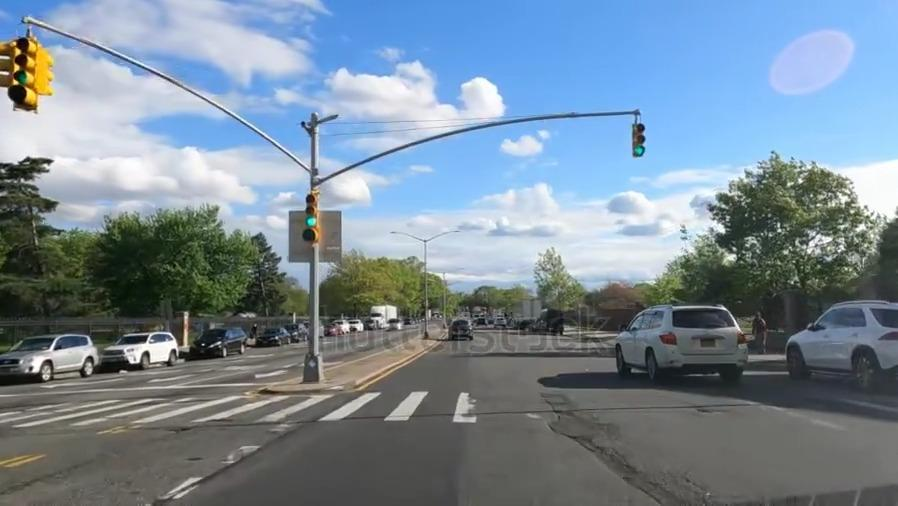car: (609, 300, 748, 383), (775, 295, 898, 385), (2, 332, 102, 381), (103, 331, 179, 367), (190, 328, 239, 355), (448, 317, 474, 342), (261, 328, 286, 344), (287, 324, 305, 341)
pedestrian: (0, 385, 897, 431)
person: (749, 310, 774, 352), (250, 321, 260, 334)
pothole: (694, 403, 724, 419)
road damage: (574, 441, 646, 486), (540, 396, 597, 440), (638, 467, 698, 506)
traffic light: (0, 32, 82, 114), (291, 187, 328, 253), (632, 111, 651, 158)
